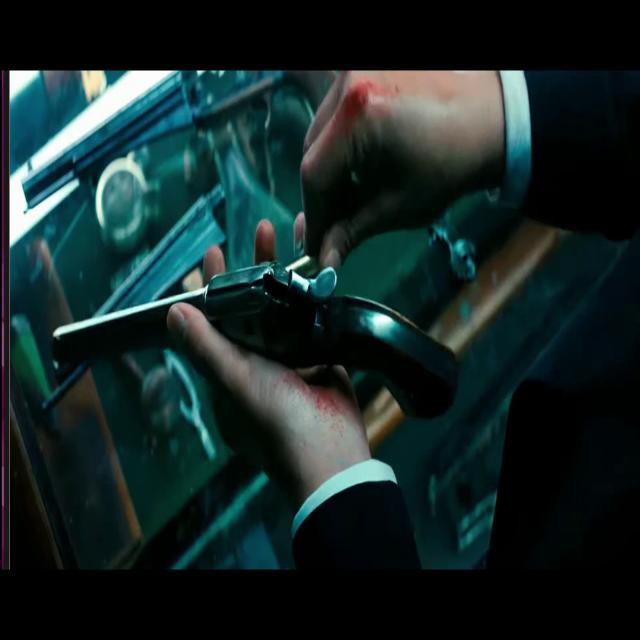weapons: (45, 223, 494, 457)
